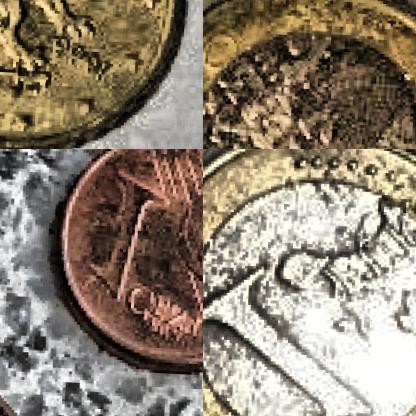coin: (203, 149, 415, 415), (50, 149, 202, 377), (203, 0, 415, 148), (0, 0, 199, 148)
